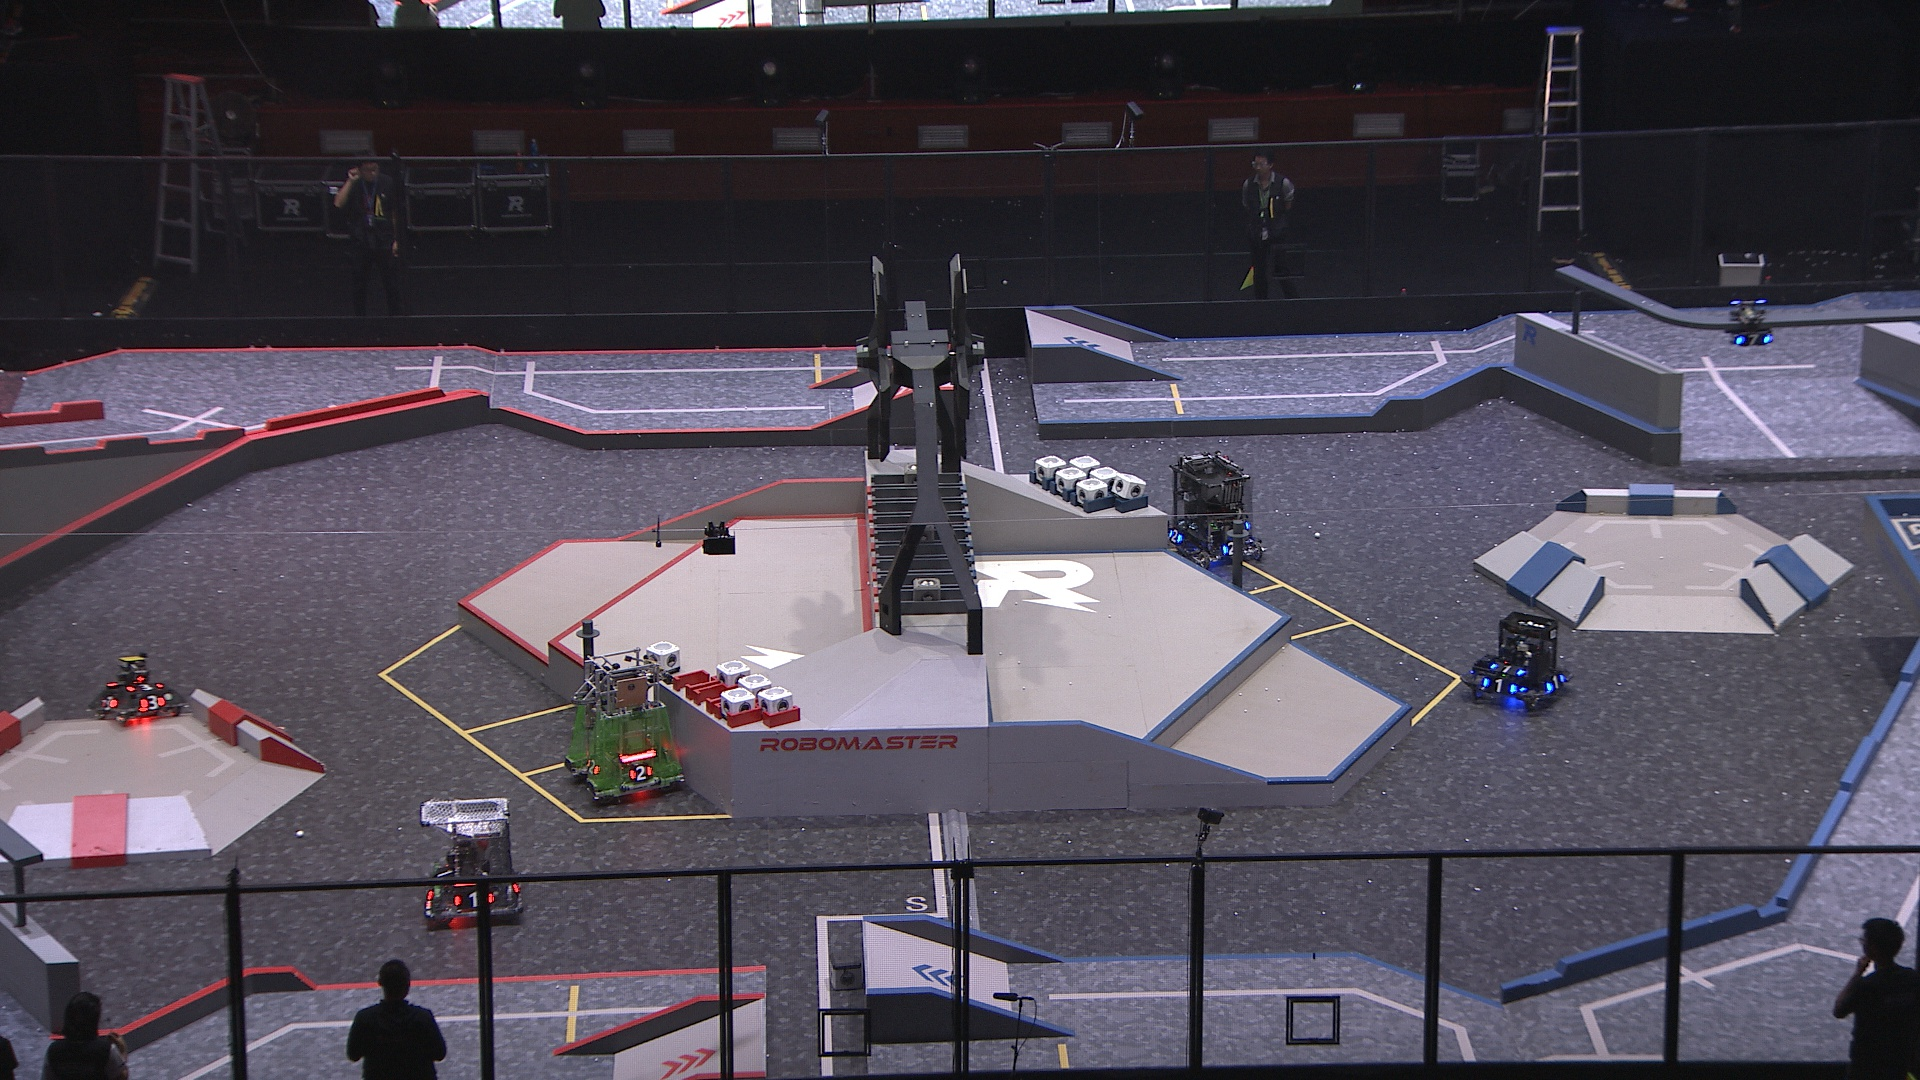armor: (1482, 676, 1519, 698), (1735, 330, 1774, 348), (1489, 661, 1527, 679), (455, 891, 495, 909), (125, 680, 166, 694), (138, 694, 167, 712), (629, 765, 655, 783), (1545, 674, 1567, 694), (436, 865, 455, 885), (102, 694, 119, 713), (1220, 542, 1238, 559), (1168, 527, 1185, 546), (585, 760, 603, 777)
car: (564, 647, 688, 802), (423, 793, 527, 924), (1166, 451, 1266, 576), (1462, 611, 1572, 717), (87, 650, 183, 723)
watcher: (1727, 299, 1775, 349)
